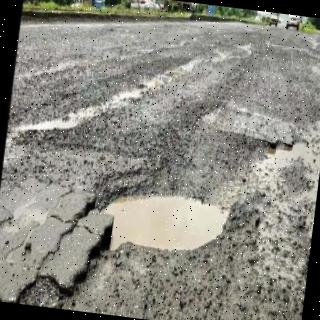pothole: (102, 196, 228, 252)
